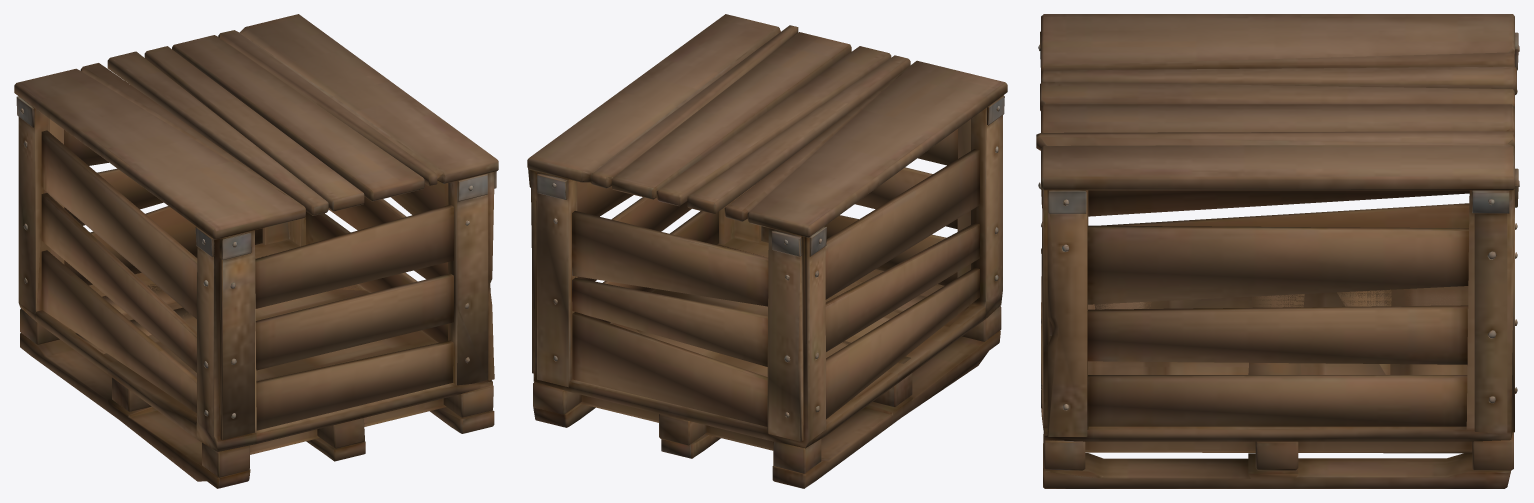
File: b3-crate.glb
3 views of the same model, side by side, from view 1: azimuth 30°, elevation 25°; view 2: azimuth 150°, elevation 25°; view 3: azimuth 270°, elevation 25° (orthographic). The views are drawn at different scales.
Parts seen in each view (by area): view 1: tripo_node_26dbf6d5-cf43-4345-b661-dbc3af72cdac; view 2: tripo_node_26dbf6d5-cf43-4345-b661-dbc3af72cdac; view 3: tripo_node_26dbf6d5-cf43-4345-b661-dbc3af72cdac.
Boxes of the visible parts, <box> form: tripo_node_26dbf6d5-cf43-4345-b661-dbc3af72cdac: <box>14,14,498,488</box>; tripo_node_26dbf6d5-cf43-4345-b661-dbc3af72cdac: <box>527,14,1007,488</box>; tripo_node_26dbf6d5-cf43-4345-b661-dbc3af72cdac: <box>1036,14,1519,488</box>.
Size of the model in its own units: 0.5557 by 0.5 by 0.6777.
1 material, 1 textured.
